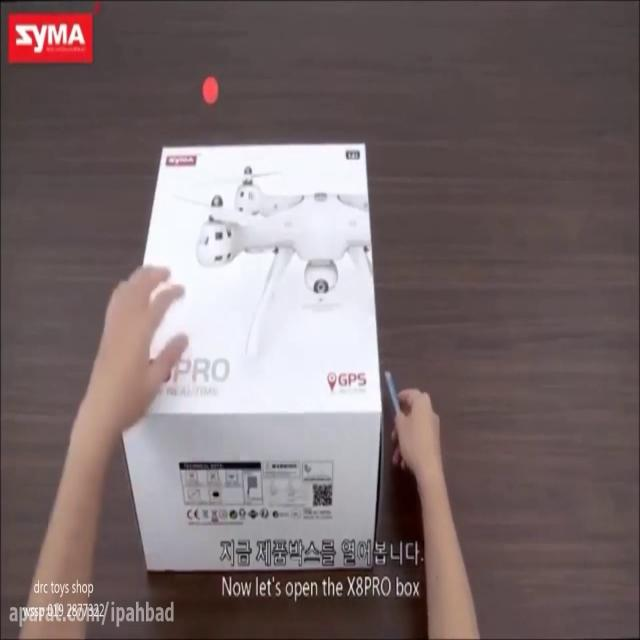drone: (172, 165, 386, 348)
